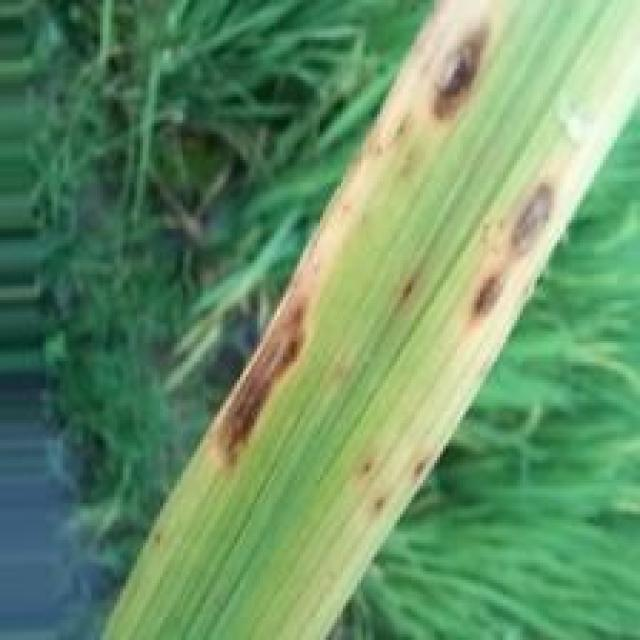Leaf_Blast: (350, 0, 640, 562), (190, 0, 523, 486)
